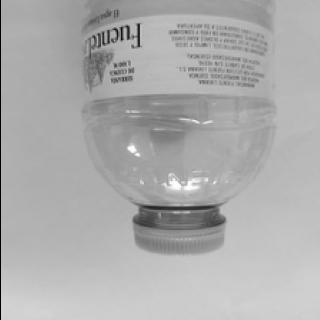plastic_bottles: (83, 0, 278, 259)
